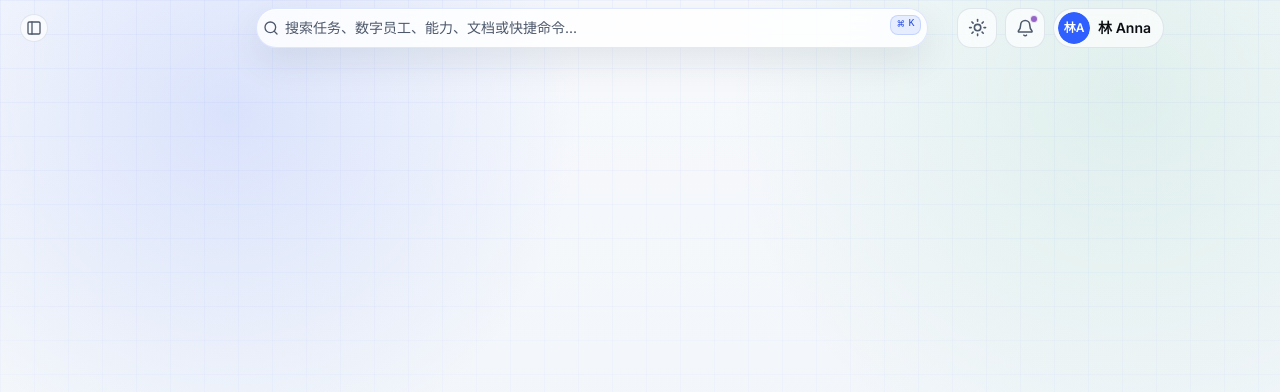
Test: Header › opens lightweight top-right controls without blocking neighboring clicks
The width and height of the screenshot is (1280, 392).
Click the 2nd button named "切换主题" at (977, 28), box [957, 8, 997, 48]
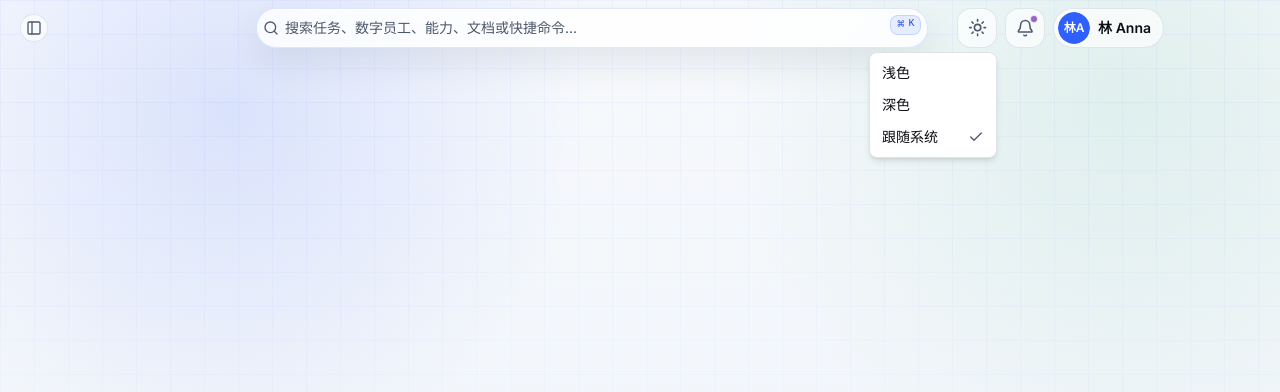
Now the menu item "跟随系统" is shown, box [882, 128, 984, 145]
Click the button named "通知" at (1025, 28), box [1005, 8, 1045, 48]
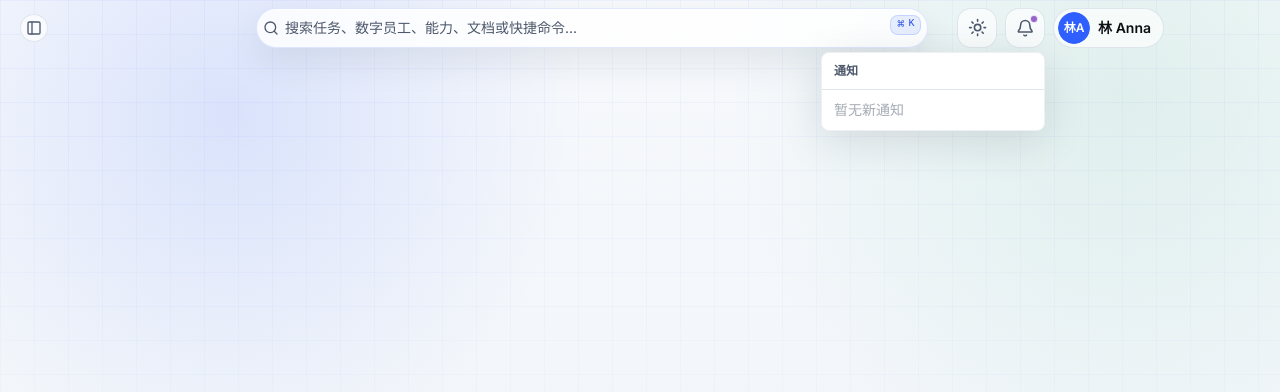
Now the menu item "暂无新通知" is shown, box [834, 101, 904, 118]
Click the button with aria-label "用户信息：林 Anna" at (1109, 28), box [1053, 8, 1164, 48]
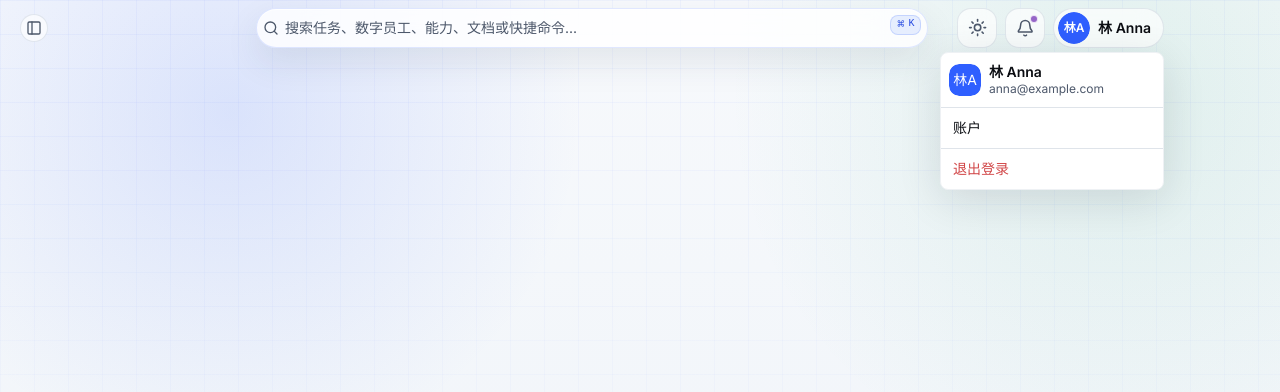
Now the menu item "账户" is shown, box [953, 118, 981, 136]
